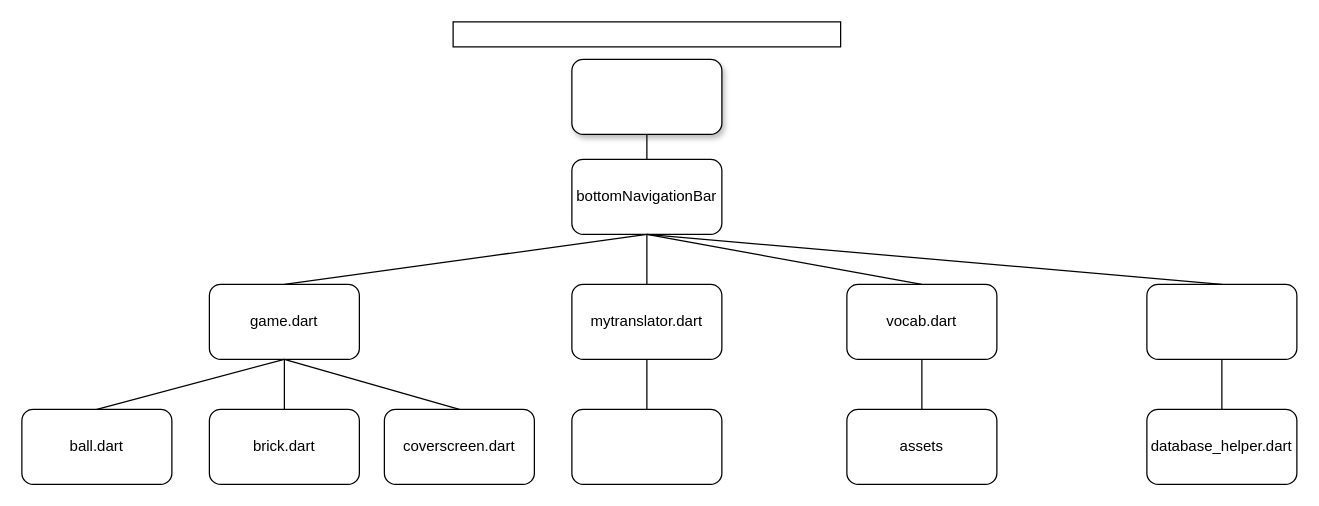
The diagram is 1319 pixels wide and 506 high, and some of its shapes have lost their labels. Here are the shapes that lost their labels. From the top down, the centre of each, then its label:
pixel 646 34: Dummy App Static Hierarchy
pixel 647 98: main.dart
pixel 1221 321: database_ui.dart
pixel 646 446: mytts.dart
